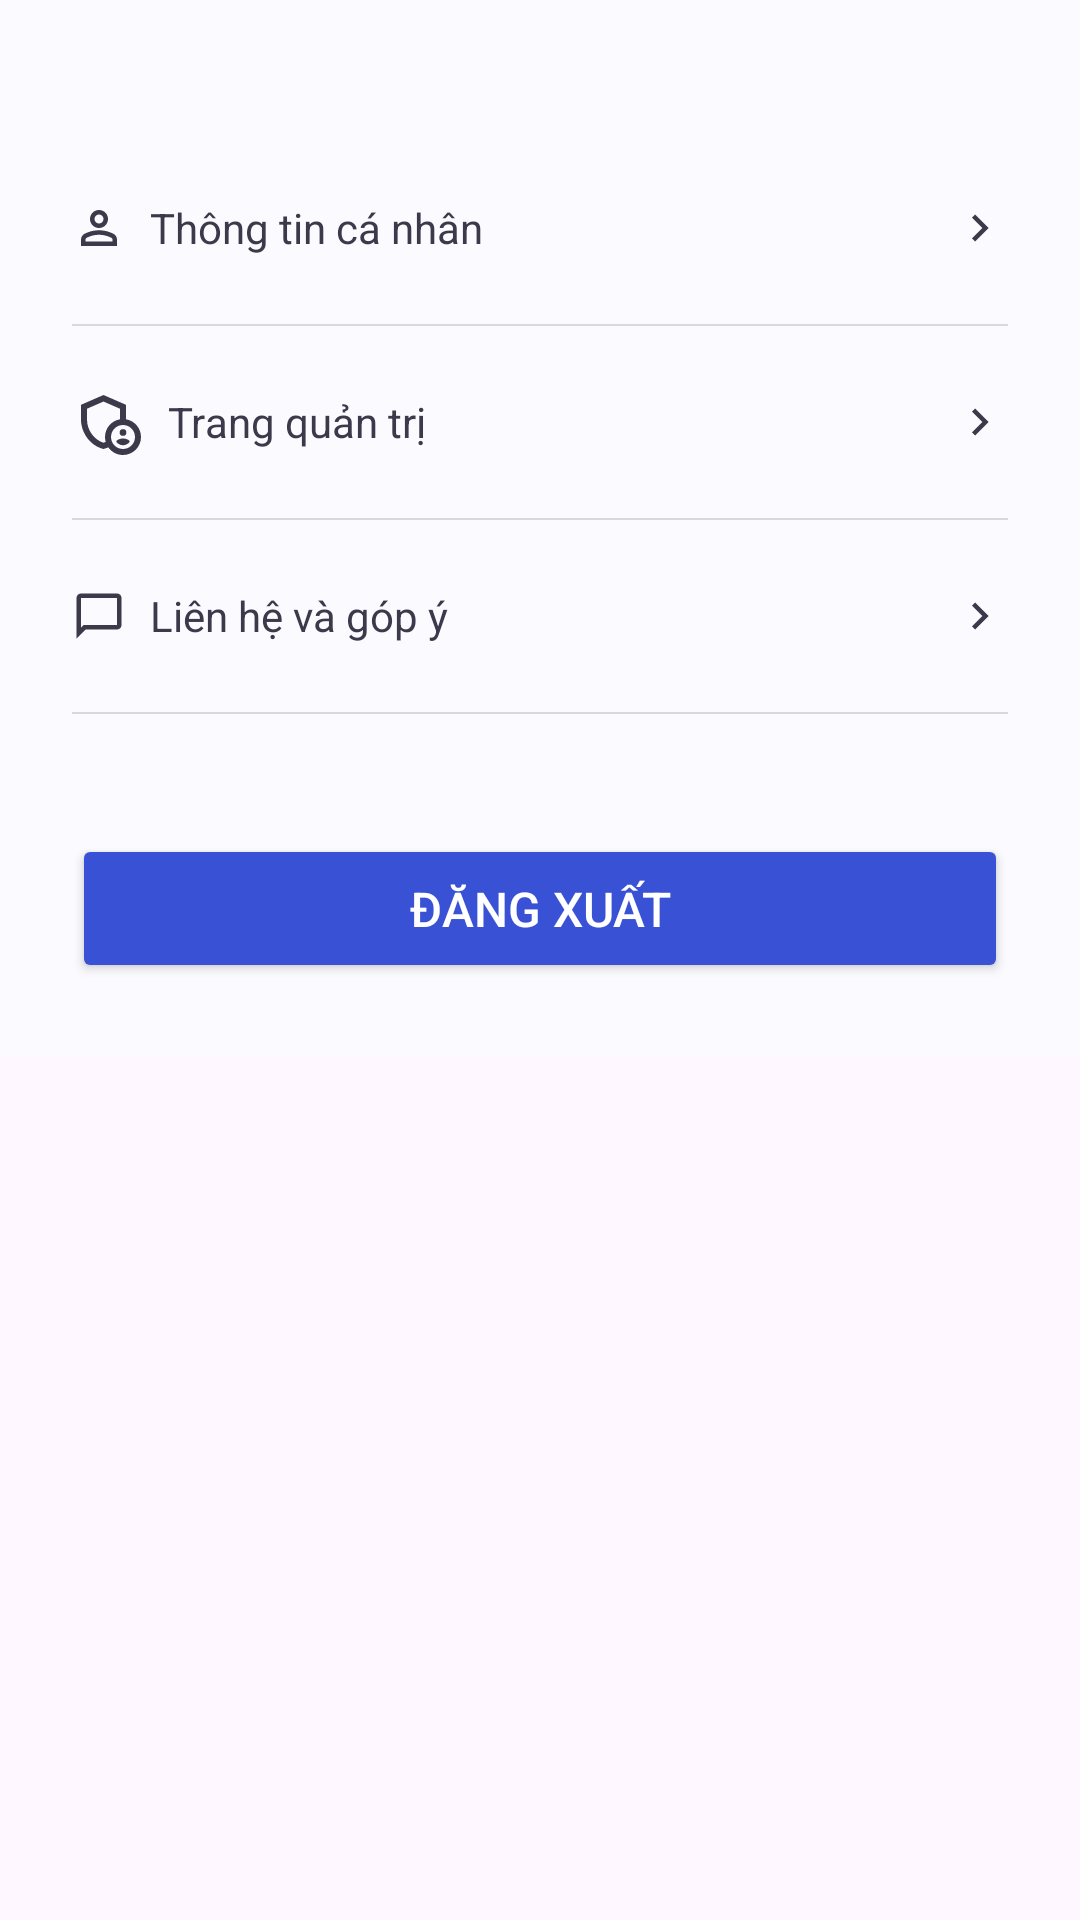

Named icons in this screenshot (1080x1920) and their bounding boxes, bbox(x1, y1, x2, y2):
admin: bbox(81, 395, 141, 455)
chat bubble: bbox(76, 593, 122, 639)
navigate next: bbox(972, 214, 989, 242), bbox(972, 408, 989, 436), bbox(972, 602, 989, 630)
person: bbox(81, 210, 117, 246)
